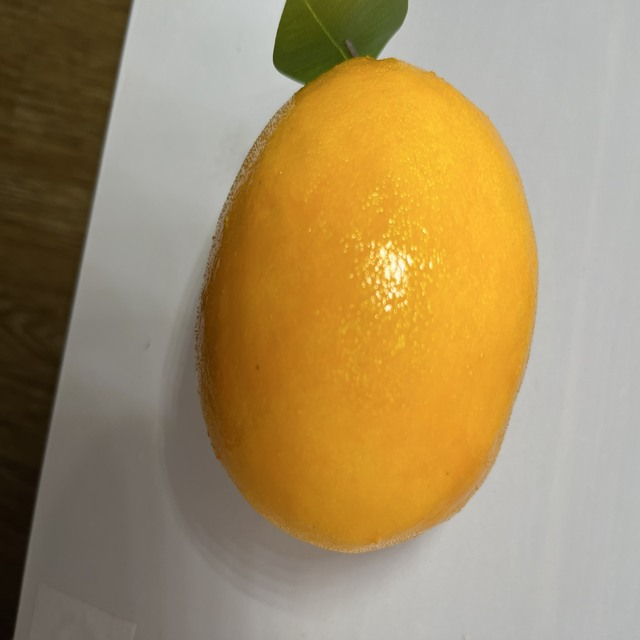Cam vang: (190, 54, 544, 560)
